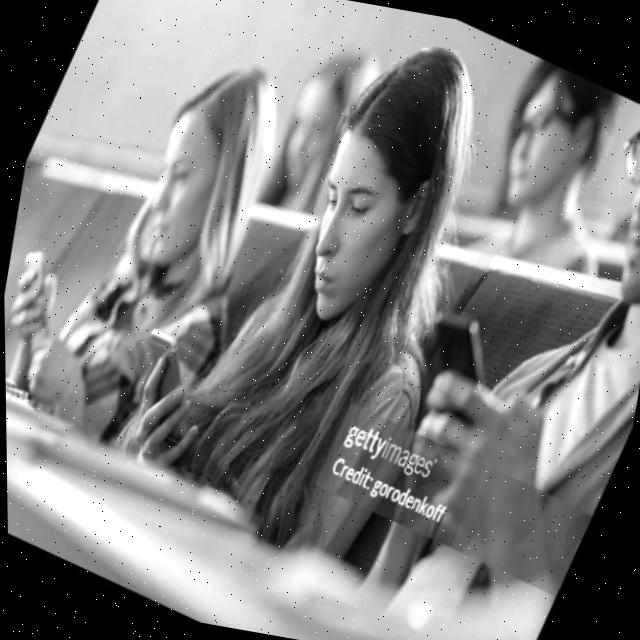phone: (392, 296, 510, 428), (106, 320, 223, 452), (3, 241, 79, 343)
